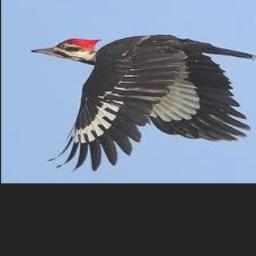Woodpecker: (32, 34, 256, 171)
